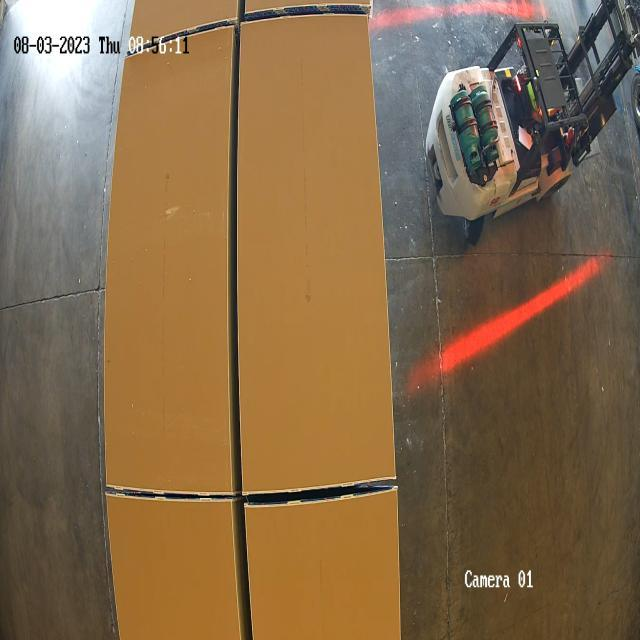forklift: (423, 2, 640, 255)
